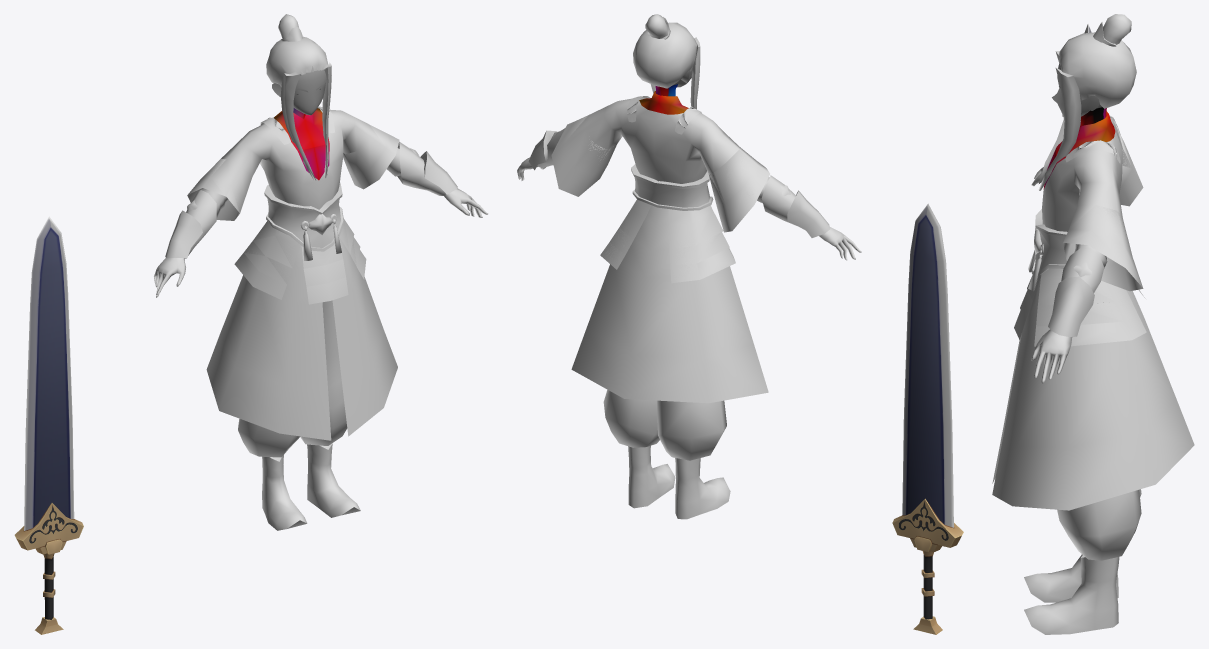
File: show_047_sword_soldier_5_view.fbx
The picture shows the model from 3 angles, left to right: view 1: azimuth 30°, elevation 25°; view 2: azimuth 150°, elevation 25°; view 3: azimuth 270°, elevation 25°; orthographic projection. The views are drawn at different scales.
Parts seen in each view (by area): view 1: show_047_sword_soldier_5, show_047_sword_soldier_5_weapon; view 2: show_047_sword_soldier_5, show_047_sword_soldier_5_weapon; view 3: show_047_sword_soldier_5.
Part boxes in pixels (<box>): show_047_sword_soldier_5: <box>154,14,487,530</box>; show_047_sword_soldier_5_weapon: <box>14,216,83,634</box>; show_047_sword_soldier_5: <box>517,14,861,519</box>; show_047_sword_soldier_5_weapon: <box>892,203,963,634</box>; show_047_sword_soldier_5: <box>992,14,1194,634</box>.
Bounding box in the file's own units: 223 × 257 × 70.42.
